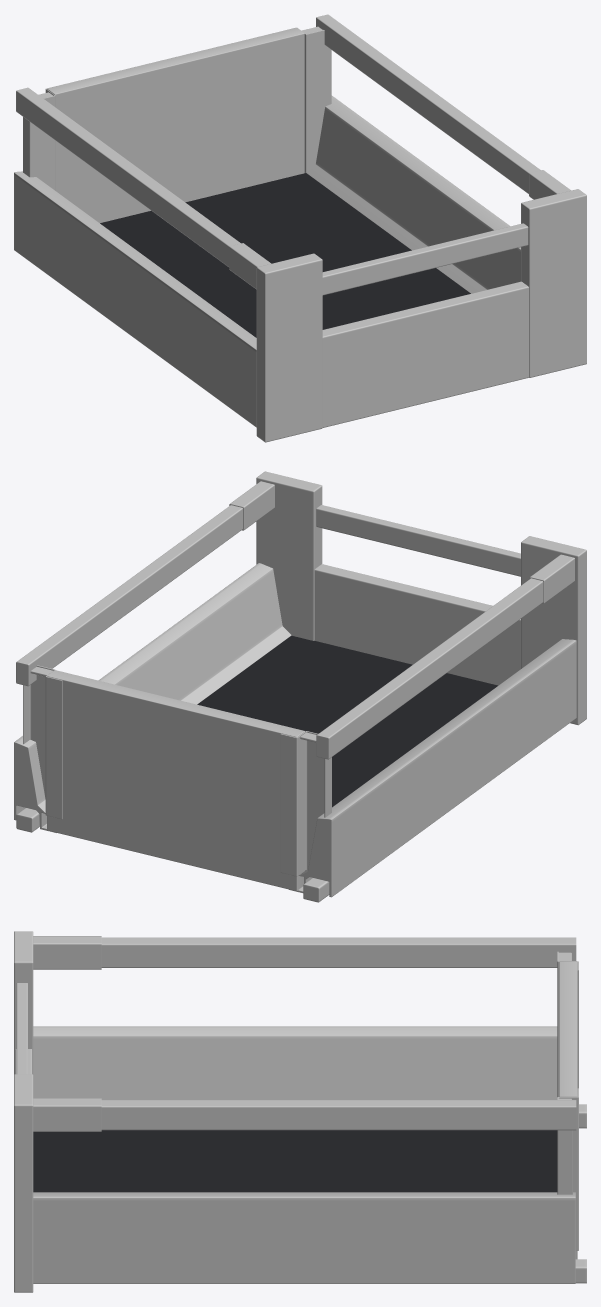
Rendered from SM_Kitchen_02_Drawer_02.dae.
3 renders of one model, top to bottom at view 1: azimuth 30°, elevation 25°; view 2: azimuth 150°, elevation 25°; view 3: azimuth 270°, elevation 25°, orthographic. The views are drawn at different scales.
Visible parts, largest first — view 1: SM_Kitchen_02_Drawer_02; view 2: SM_Kitchen_02_Drawer_02; view 3: SM_Kitchen_02_Drawer_02.
Part boxes in pixels (<box>): SM_Kitchen_02_Drawer_02: <box>14,14,586,442</box>; SM_Kitchen_02_Drawer_02: <box>14,471,586,902</box>; SM_Kitchen_02_Drawer_02: <box>14,931,586,1292</box>.
Bounding box in the file's own units: 0.362 × 0.5029 × 0.182.
